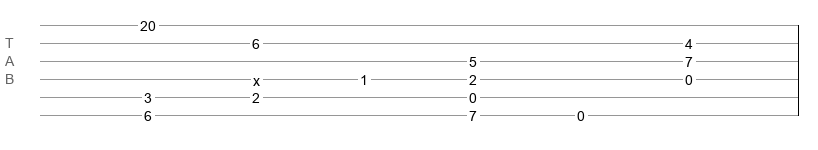0: (469, 90, 477, 100), (577, 108, 585, 118), (685, 72, 693, 82)
1: (360, 72, 368, 82)
2: (252, 90, 260, 100), (469, 72, 477, 82)
20: (140, 18, 156, 28)
3: (144, 90, 152, 100)
4: (685, 36, 693, 46)
5: (469, 54, 477, 64)
6: (144, 108, 152, 118), (252, 36, 260, 46)
7: (469, 108, 477, 118), (685, 54, 693, 64)
x: (253, 73, 260, 81)
